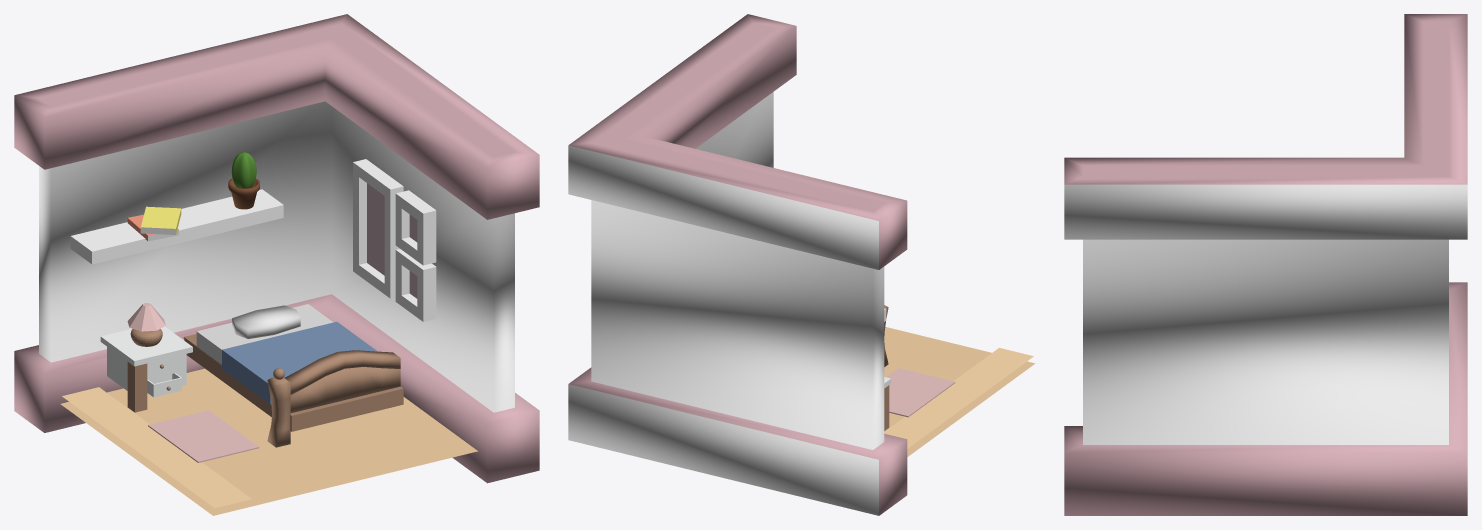
The model's file is bedroom3D.glb.
The picture shows the model from 3 angles, left to right: view 1: azimuth 30°, elevation 25°; view 2: azimuth 150°, elevation 25°; view 3: azimuth 270°, elevation 25°; orthographic projection. The views are drawn at different scales.
Visible parts, largest first — view 1: Cube, Plane, Cube.001, Cube.002, Plane.001, Plane.006, Plane.003, Plane.008, Plane.002, Plane.010, Plane.005, Plane.007 (+6 smaller); view 2: Cube, Plane, Plane.001, Plane.010; view 3: Cube.
Part boxes in pixels (x1=…): Cube: x1=14, y1=14, x2=539, y2=483; Plane: x1=60, y1=368, x2=477, y2=515; Cube.001: x1=353, y1=159, x2=436, y2=321; Cube.002: x1=70, y1=189, x2=283, y2=264; Plane.001: x1=62, y1=387, x2=251, y2=507; Plane.006: x1=222, y1=321, x2=377, y2=404; Plane.003: x1=284, y1=350, x2=400, y2=412; Plane.008: x1=100, y1=326, x2=192, y2=397; Plane.002: x1=183, y1=334, x2=403, y2=431; Plane.010: x1=148, y1=410, x2=259, y2=462; Plane.005: x1=196, y1=304, x2=333, y2=365; Plane.007: x1=232, y1=305, x2=300, y2=338; Cube: x1=568, y1=14, x2=907, y2=515; Plane: x1=884, y1=327, x2=1035, y2=456; Plane.001: x1=884, y1=347, x2=1033, y2=448; Plane.010: x1=886, y1=368, x2=955, y2=417; Cube: x1=1064, y1=14, x2=1467, y2=515.
Bounding box in the file's own units: 2.21 × 2 × 2.21.
